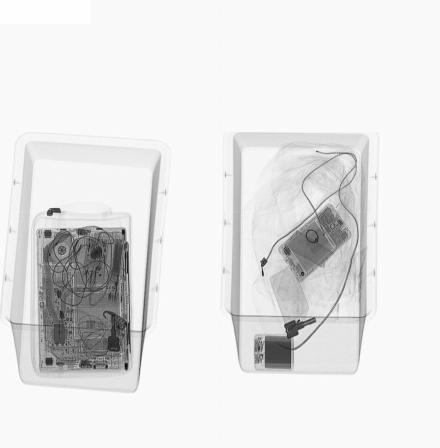Powerbank: (254, 331, 296, 372)
